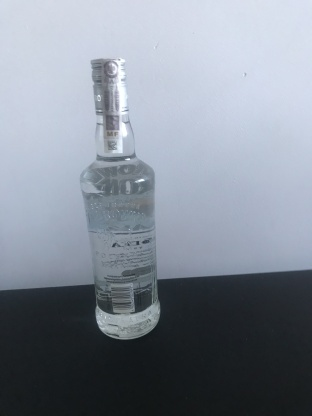nakretka: (87, 55, 131, 117)
